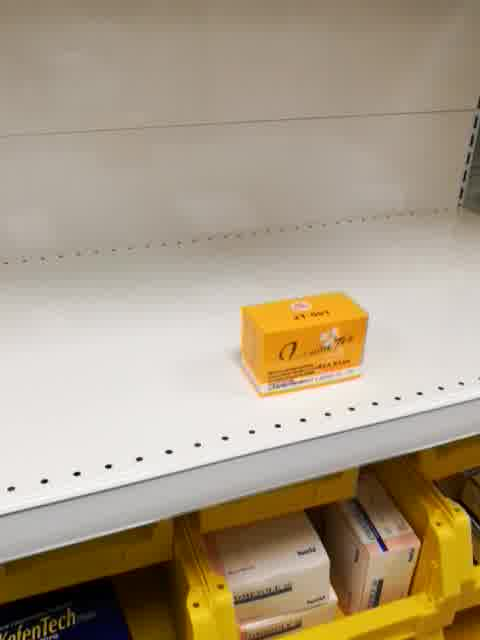jasminetea: (239, 291, 372, 401)
